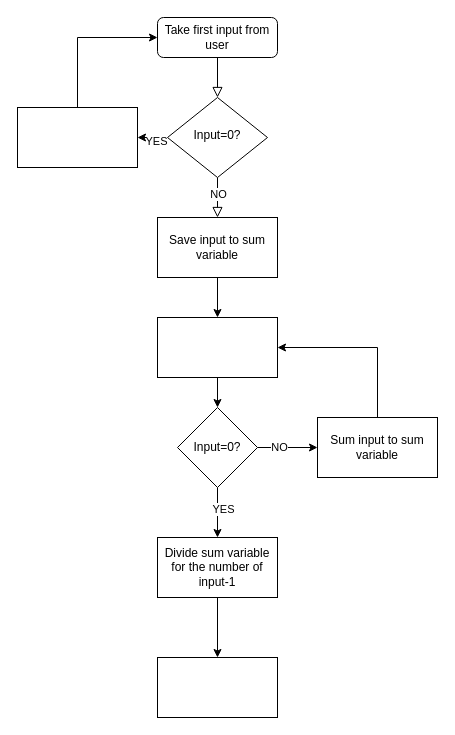
The diagram is 455 pixels wide and 735 high, and some of its shapes have lost their labels. The centre of each missing label's shape, as x and y in pixels:
Ask the user for input different from 0: pixel 77 137
Print to video the result: pixel 217 687
Take another input from user: pixel 217 347
